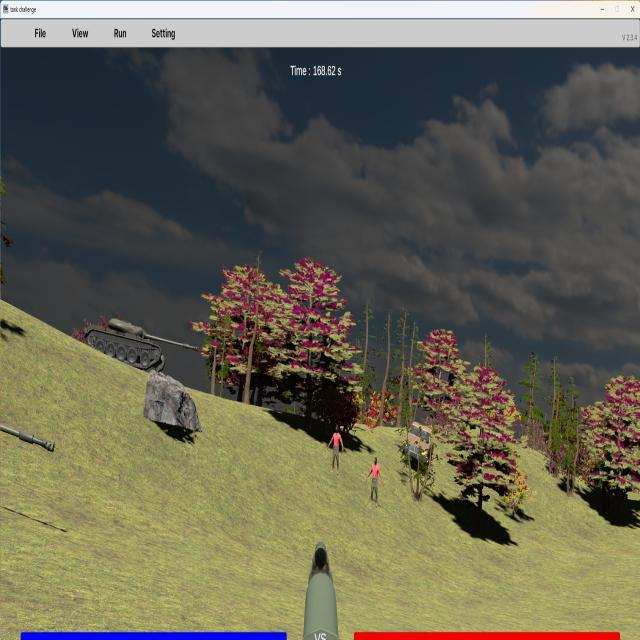Human: (366, 456, 383, 508), (328, 424, 344, 475)
Tank: (0, 373, 55, 520), (84, 317, 199, 374)
car: (405, 423, 433, 466)
